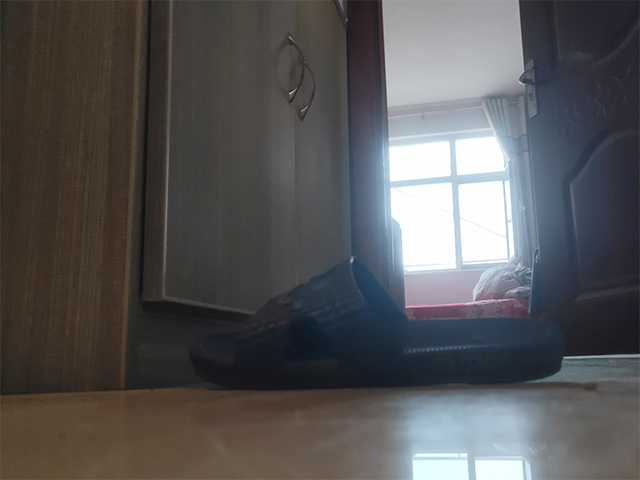cabinet: (1, 1, 357, 396)
slippers: (187, 253, 566, 392)
